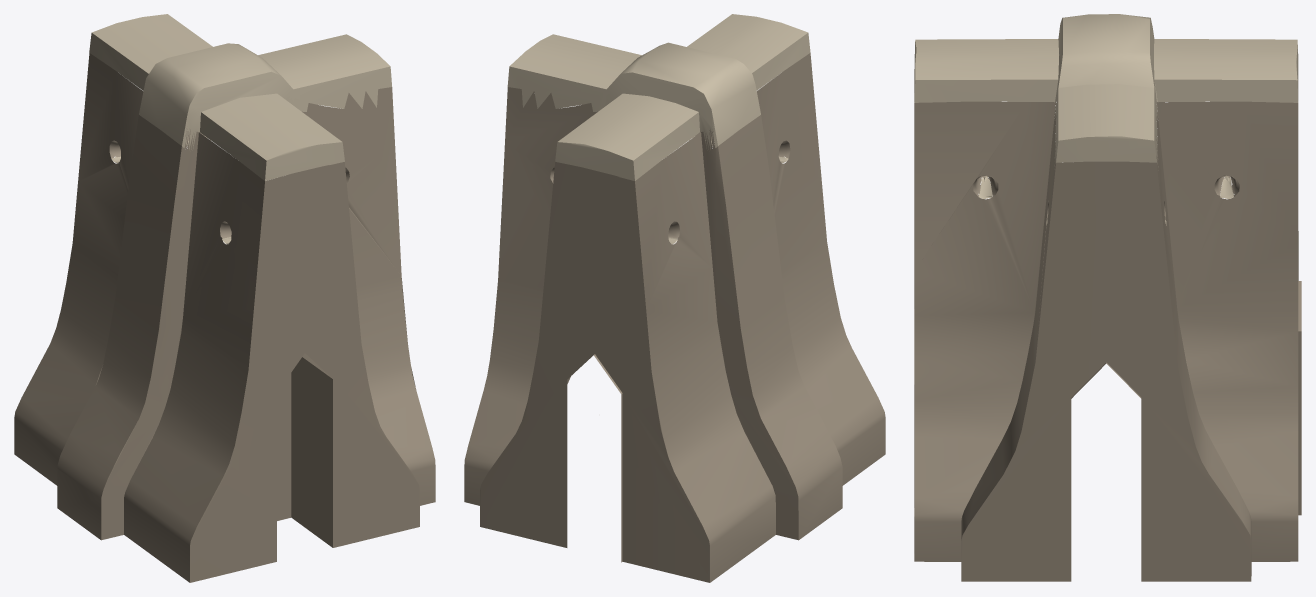
Rendered from stone-wall-nes.glb.
3 renders of one model, left to right at view 1: azimuth 30°, elevation 25°; view 2: azimuth 150°, elevation 25°; view 3: azimuth 270°, elevation 25°, orthographic. The views are drawn at different scales.
Parts seen in each view (by area): view 1: body; view 2: body; view 3: body.
Boxes of the visible parts, x1,y1,x2,y2 form: body: (14,14,435,582); body: (464,14,885,582); body: (914,14,1301,581).
Size of the model in its own units: 0.9457 by 1.32 by 0.992.
